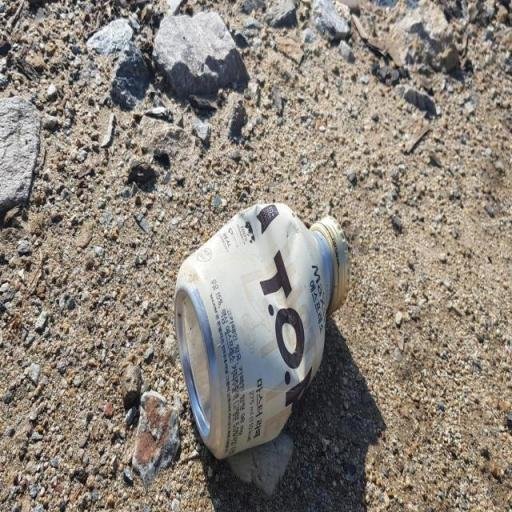metal: (149, 188, 365, 472)
